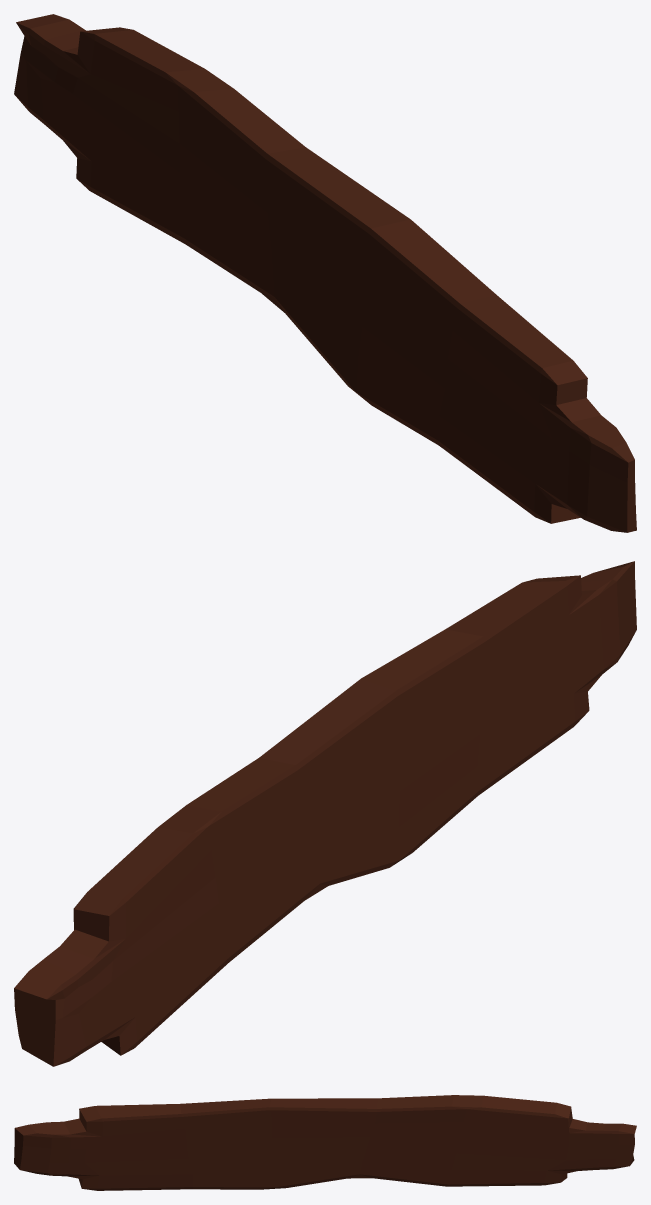
File: wooden fence.glb
3 renders of one model, top to bottom at view 1: azimuth 30°, elevation 25°; view 2: azimuth 150°, elevation 25°; view 3: azimuth 270°, elevation 25°, orthographic. The views are drawn at different scales.
Parts seen in each view (by area): view 1: Cube.009; view 2: Cube.009; view 3: Cube.009.
Part boxes in pixels (x1,y1,x2,y2): Cube.009: [14, 14, 636, 532]; Cube.009: [14, 561, 636, 1066]; Cube.009: [14, 1095, 636, 1190].
Size of the model in its own units: 0.6443 by 2.21 by 13.81.
